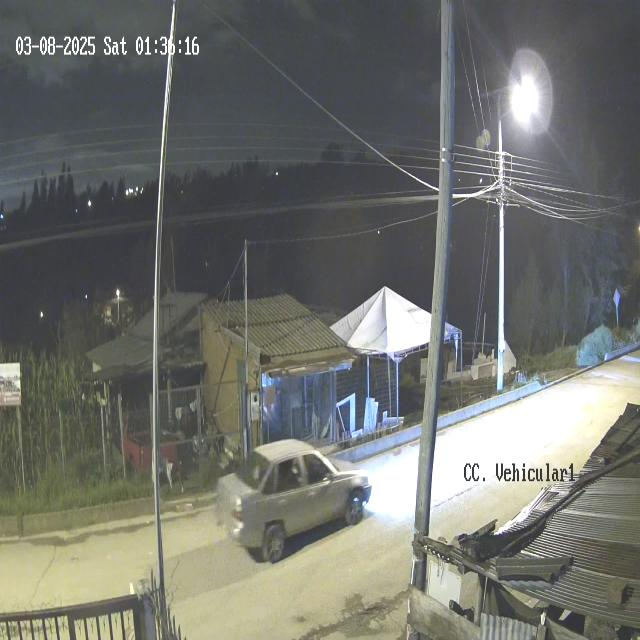SED: (217, 442, 370, 557)
